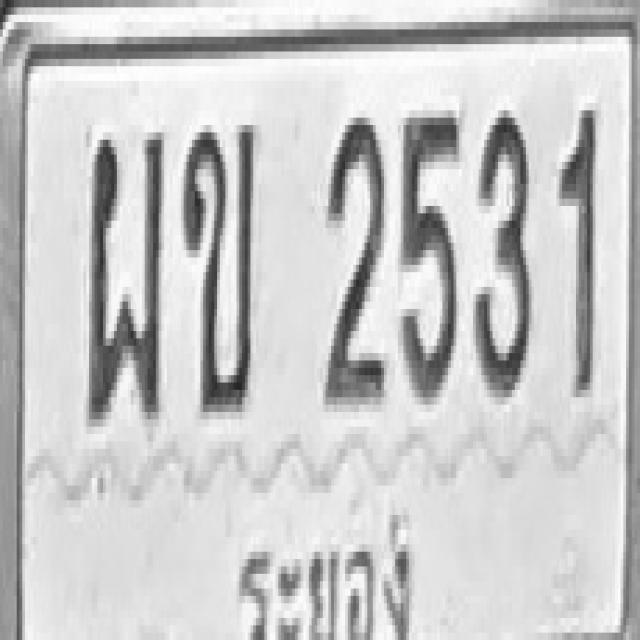1: (558, 106, 597, 394)
11KhorKhai: (181, 118, 256, 412)
2: (323, 110, 384, 405)
3: (473, 103, 532, 397)
37PhorPhueng: (86, 129, 164, 423)
5: (400, 107, 460, 401)
Rayong: (222, 500, 428, 640)
